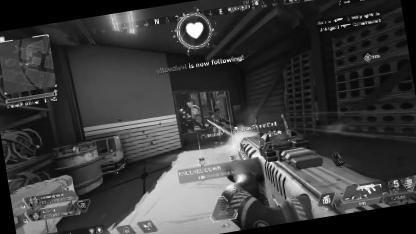Target: (208, 107, 226, 132)
